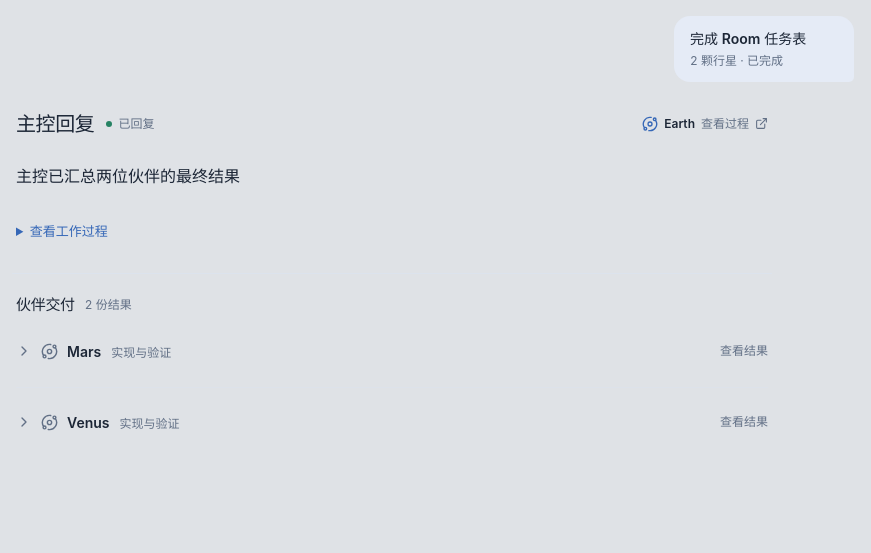
it: PawRoomRoundSheet (UR-170/172) › keeps the coordinator report visible and makes partner submissions expandable
Expected: the element named "Earth 主控回复" shows "主控已汇总两位伙伴的最终结果", [16,166,240,186]
Expected: the number of elements named "伙伴结果" is 2, [16,343,768,360]; [16,387,768,458]
Click the text "查看结果" in the row of "Mars" at (744, 351), box [720,342,768,360]
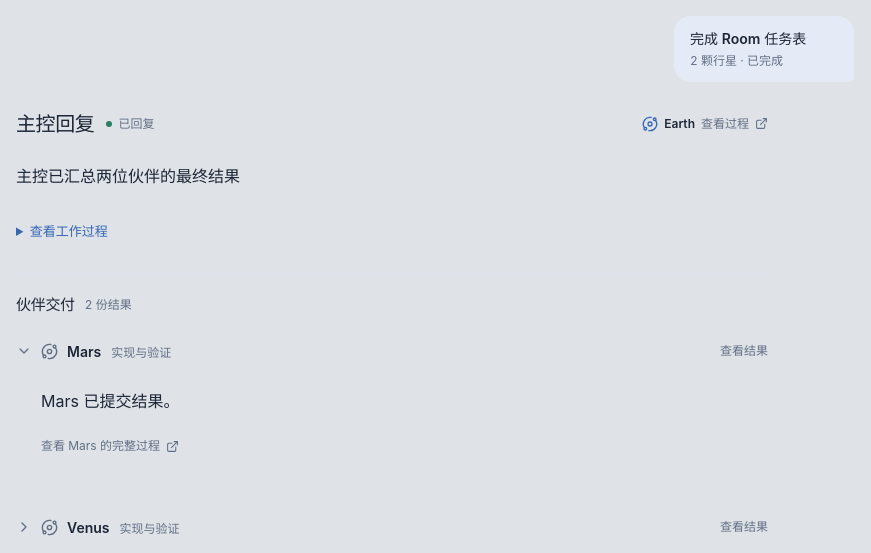
Expected: the text "Mars 已提交结果。" is shown, [41,391,179,411]
Expected: the button with aria-label "打开 Mars Session" is shown, [41,430,179,462]
